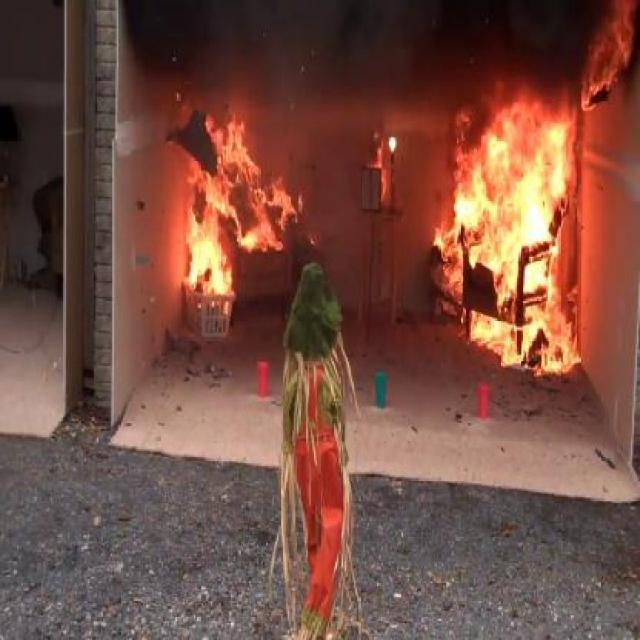fire: (443, 125, 588, 372), (178, 103, 294, 332)
smoke: (146, 21, 586, 97)
